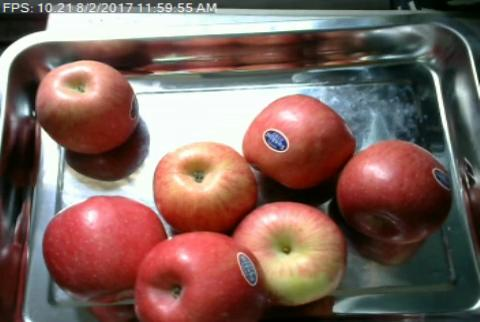apple: (41, 195, 159, 301), (336, 140, 453, 243), (134, 232, 267, 322), (240, 202, 347, 304), (243, 94, 352, 184), (35, 59, 139, 153), (154, 141, 255, 232)
